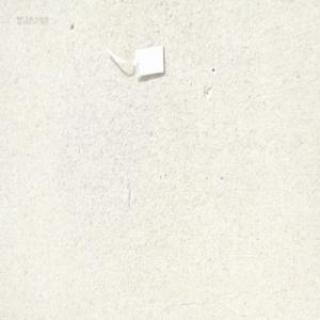LuggageTagtrack_idkeyframe: (106, 39, 166, 77)
